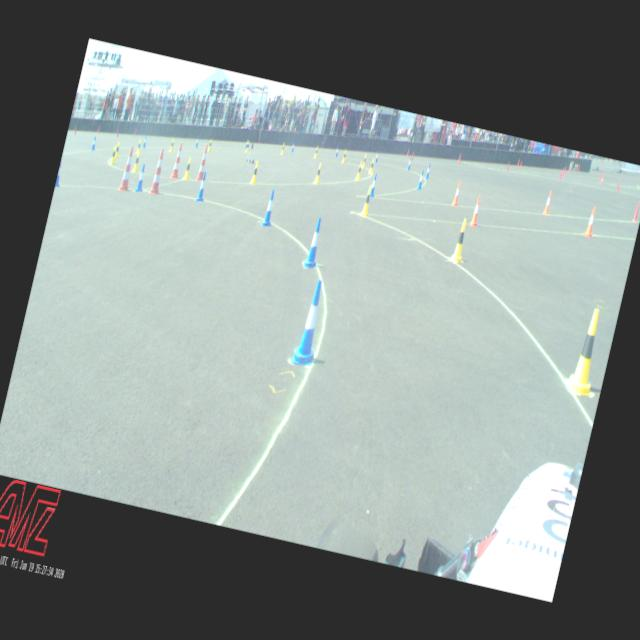blue_cone: (292, 278, 331, 367), (302, 216, 326, 270), (260, 188, 279, 228), (192, 170, 210, 203), (134, 162, 147, 192), (54, 160, 64, 187), (415, 168, 425, 190), (369, 172, 378, 196), (424, 162, 432, 180), (374, 149, 381, 163), (406, 156, 412, 172), (90, 135, 96, 149), (142, 134, 148, 148), (194, 135, 200, 148), (334, 144, 339, 158), (290, 141, 296, 152), (244, 136, 248, 150)
large_orange_cone: (116, 145, 138, 192), (147, 150, 169, 196), (168, 142, 186, 180), (194, 144, 210, 182)
orange_cone: (468, 195, 484, 228), (583, 205, 598, 238), (541, 188, 554, 215), (450, 180, 462, 207)
yellow_cone: (566, 305, 608, 395), (450, 217, 470, 263), (360, 185, 373, 215), (249, 160, 261, 186), (182, 156, 193, 182), (312, 161, 322, 185), (108, 144, 118, 167), (131, 150, 141, 172), (354, 159, 363, 182), (113, 140, 121, 160), (368, 157, 376, 176), (360, 152, 367, 169), (312, 144, 319, 160), (340, 148, 347, 164), (135, 138, 142, 154), (206, 138, 213, 152), (244, 139, 250, 154), (168, 138, 174, 152), (279, 142, 285, 154)
